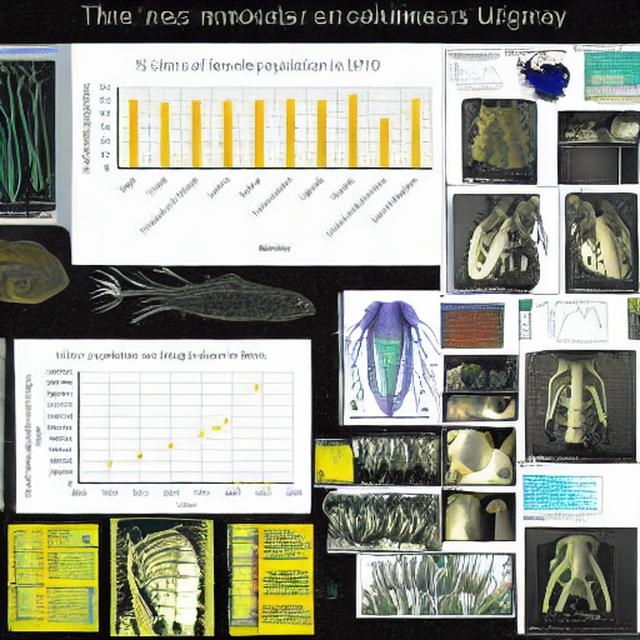Graph: (73, 47, 444, 263), (18, 344, 304, 511), (547, 297, 614, 347), (559, 145, 619, 185), (446, 57, 503, 97)
